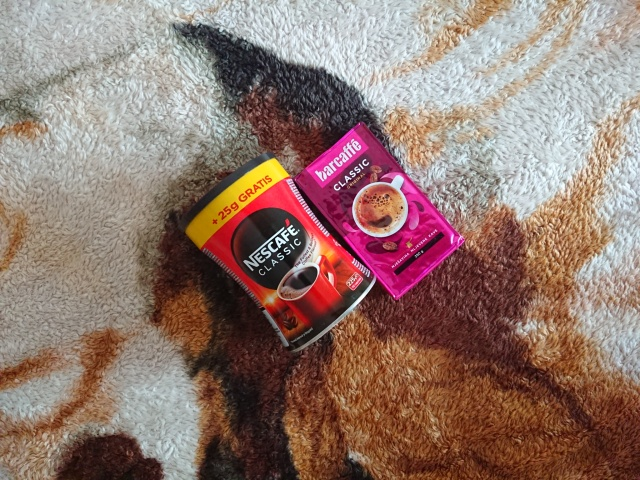Barcaffe Classic Original 225g: (290, 117, 468, 305)
Nescafe Classic 225g: (175, 148, 379, 356)
